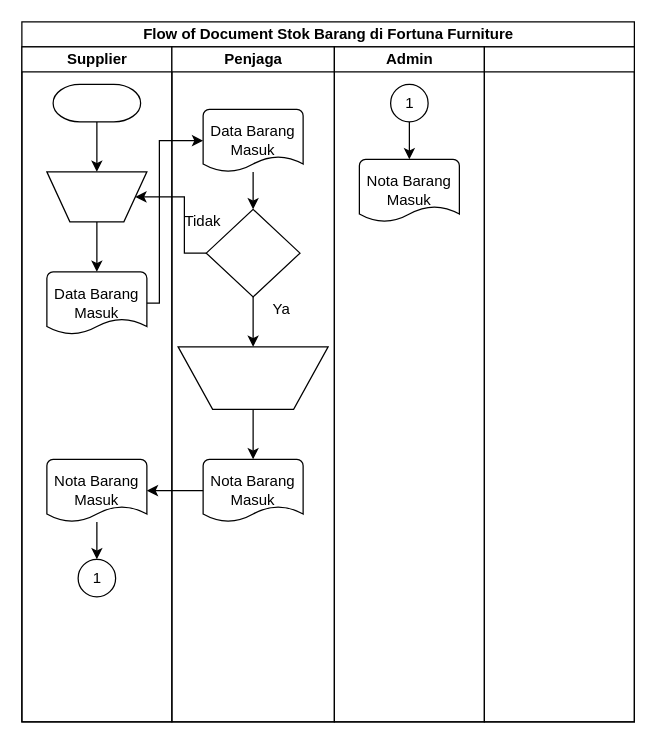
Some shapes in this 656 by 744 pixel diagram are drawn without their labels. The centre of each missing label's shape, as x and y in pixels:
"Manajer" goes at pixel 558 384.
"Membuat Nota Barang Masuk" goes at pixel 252 377.
"Mengirim Barang" goes at pixel 96 196.
"Mulai" goes at pixel 96 102.
"Validasi Barang" goes at pixel 252 252.
